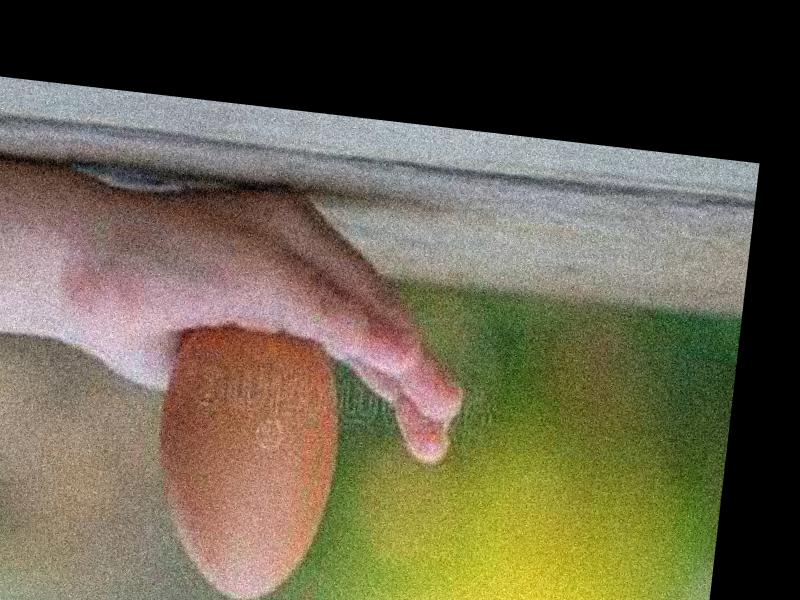Eggs: (138, 318, 347, 600)
